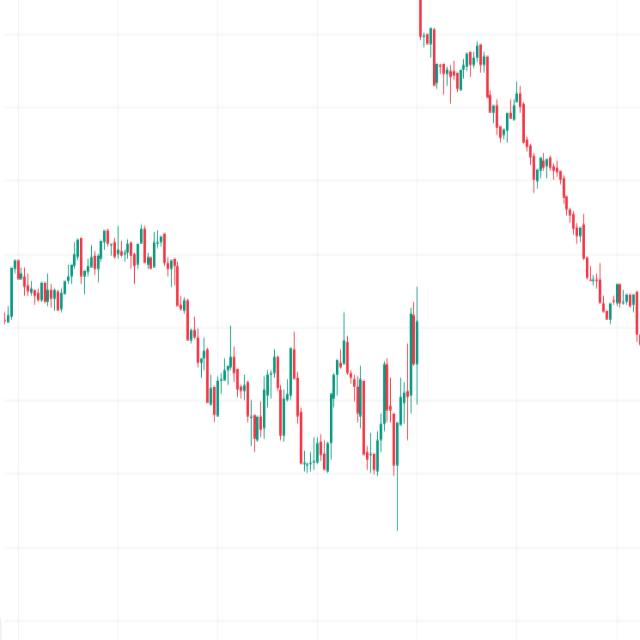Triple-Bottom: (290, 339, 424, 480)
